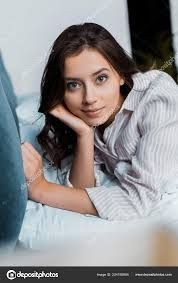no-mask: (37, 30, 134, 127)
